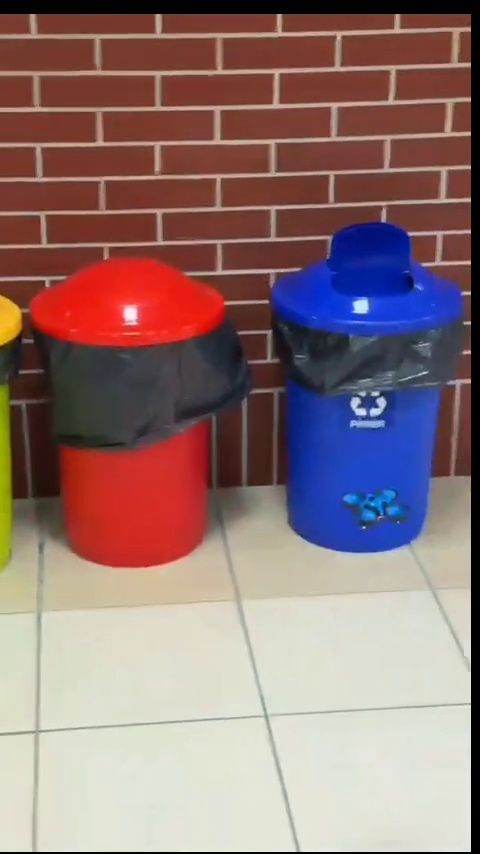drone: (341, 492, 404, 528)
